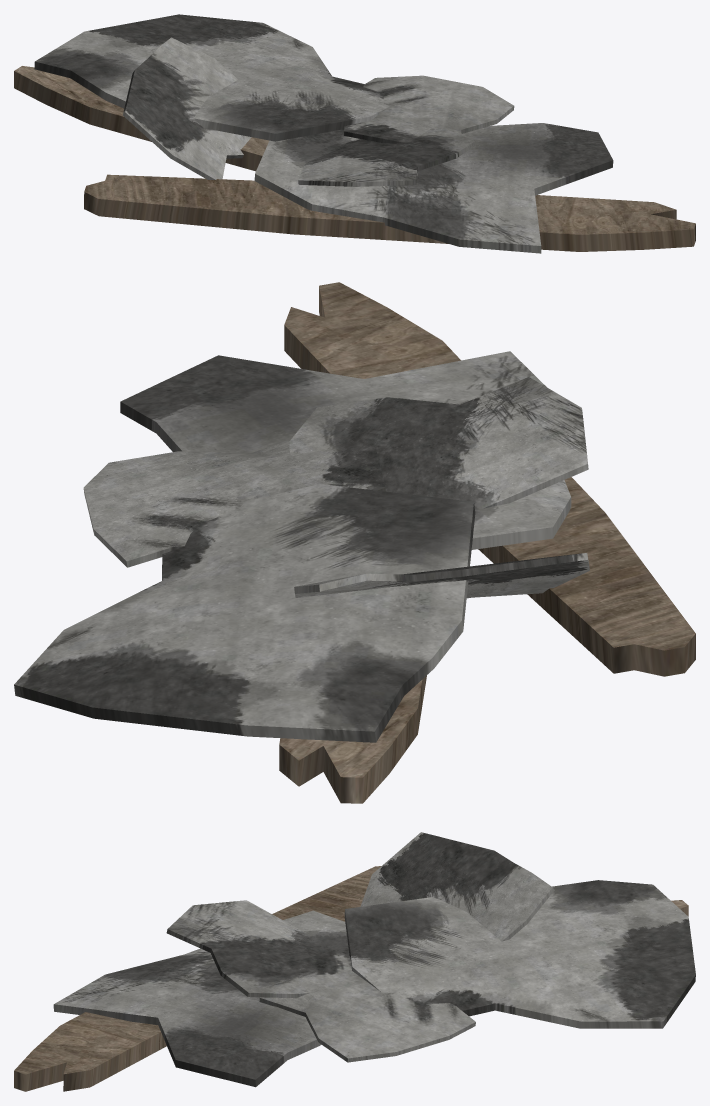
The model's file is Escombros_2.fbx.
The picture shows the model from 3 angles, top to bottom: view 1: azimuth 30°, elevation 25°; view 2: azimuth 150°, elevation 25°; view 3: azimuth 270°, elevation 25°; orthographic projection. The views are drawn at different scales.
Parts seen in each view (by area): view 1: pCube9; view 2: pCube9; view 3: pCube9.
Part boxes in pixels (x1,y1,x2,y2): pCube9: (14, 14, 695, 253); pCube9: (14, 282, 695, 803); pCube9: (14, 832, 695, 1091).
Bounding box in the file's own units: 0.8497 × 0.1474 × 1.12.
